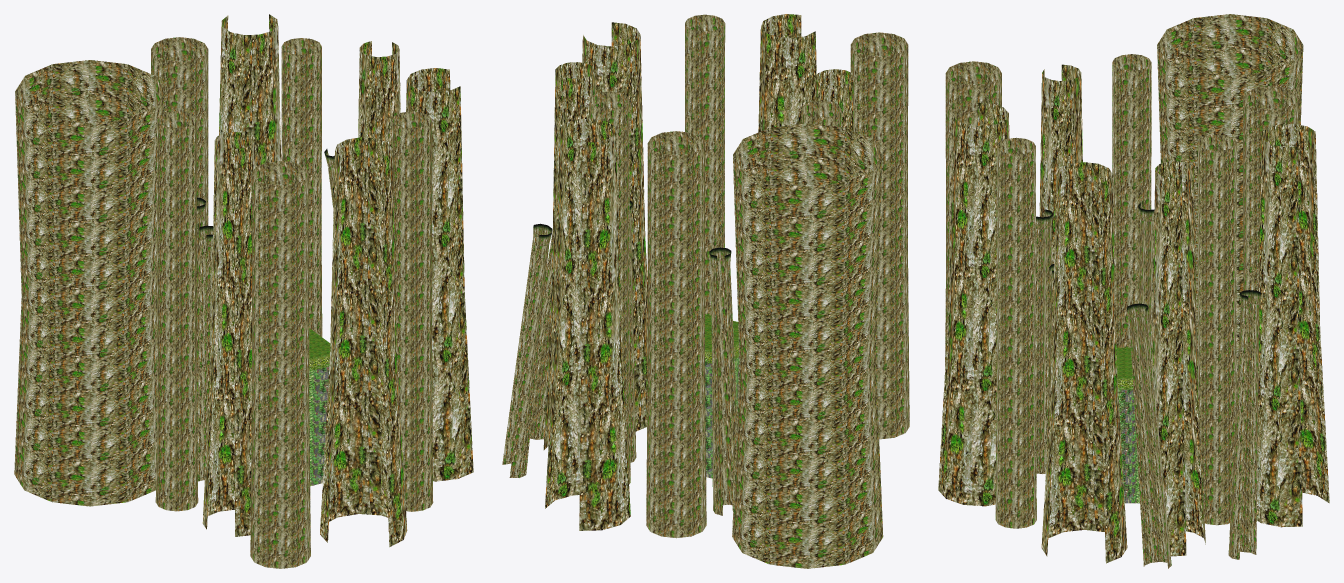
File: SonicVsShadow1.obj
The picture shows the model from 3 angles, left to right: view 1: azimuth 30°, elevation 25°; view 2: azimuth 150°, elevation 25°; view 3: azimuth 270°, elevation 25°; orthographic projection. The views are drawn at different scales.
Size of the model in its own units: 1576 by 1504 by 1422.
